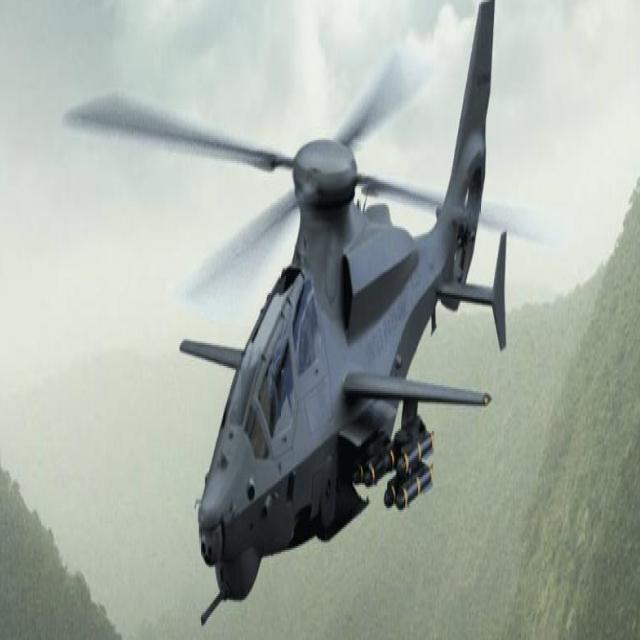helicopter: (62, 1, 524, 640)
